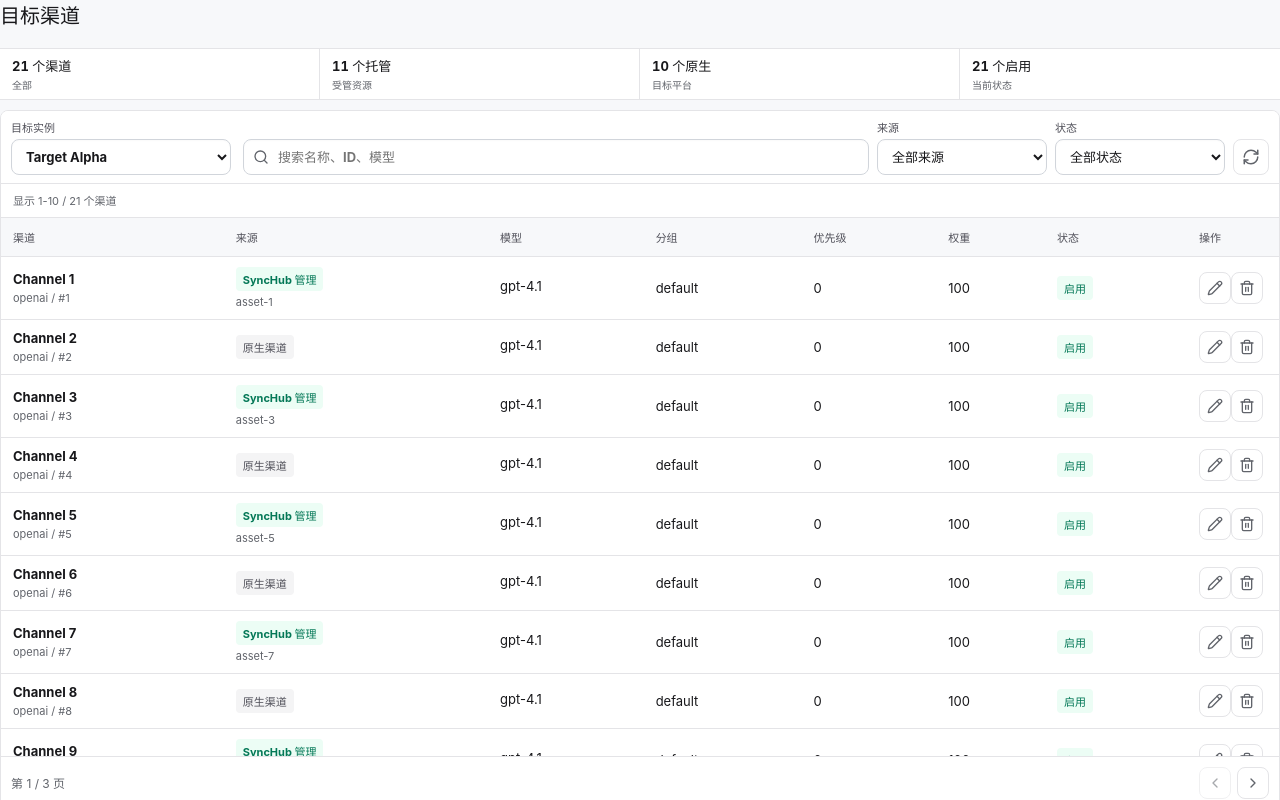
it: ChannelsPage native channel mutation guard › keeps managed channel edit and delete actions on the normal confirmation path
Click the button named "编辑渠道 Channel 1" at coordinates (1215, 288), box left=1199, top=272, right=1231, bottom=304
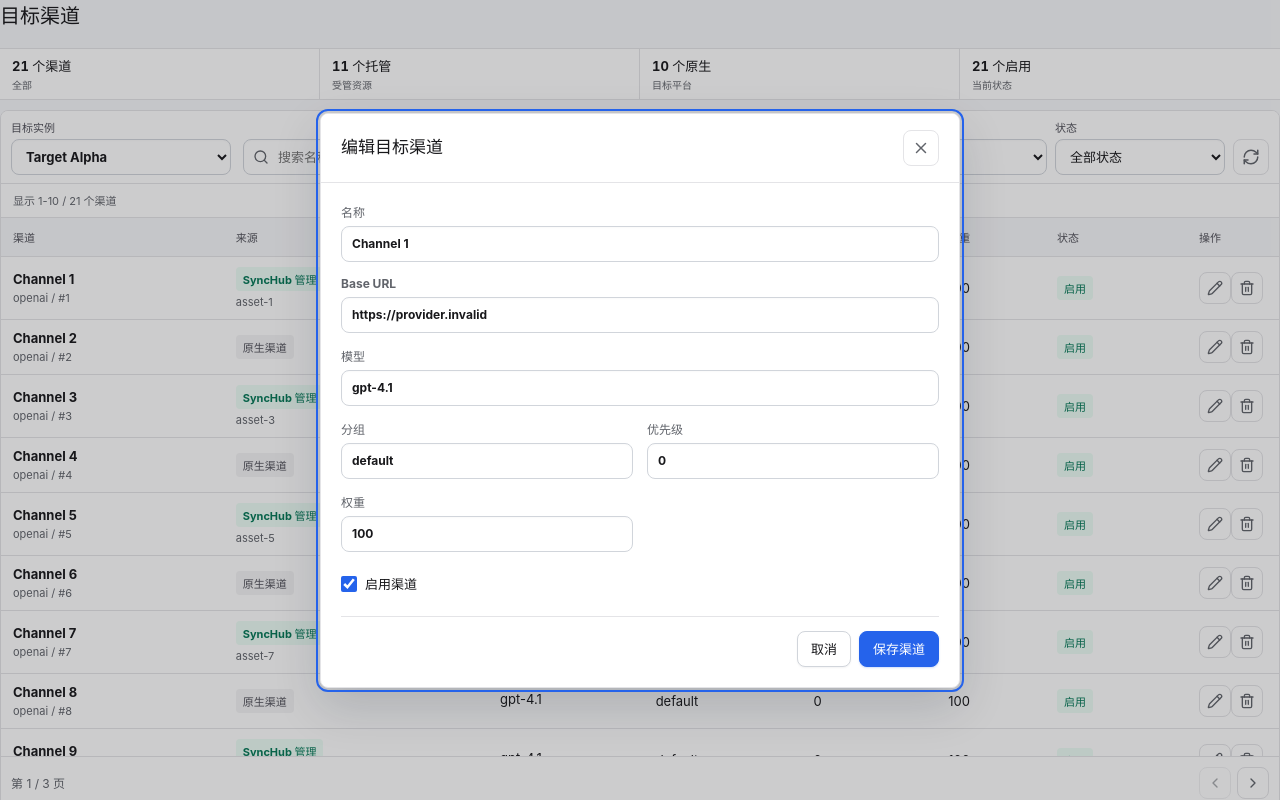
Check: the button "保存渠道" is enabled, box left=859, top=630, right=939, bottom=666
Click the button "取消" at coordinates (824, 648), box left=797, top=630, right=851, bottom=666
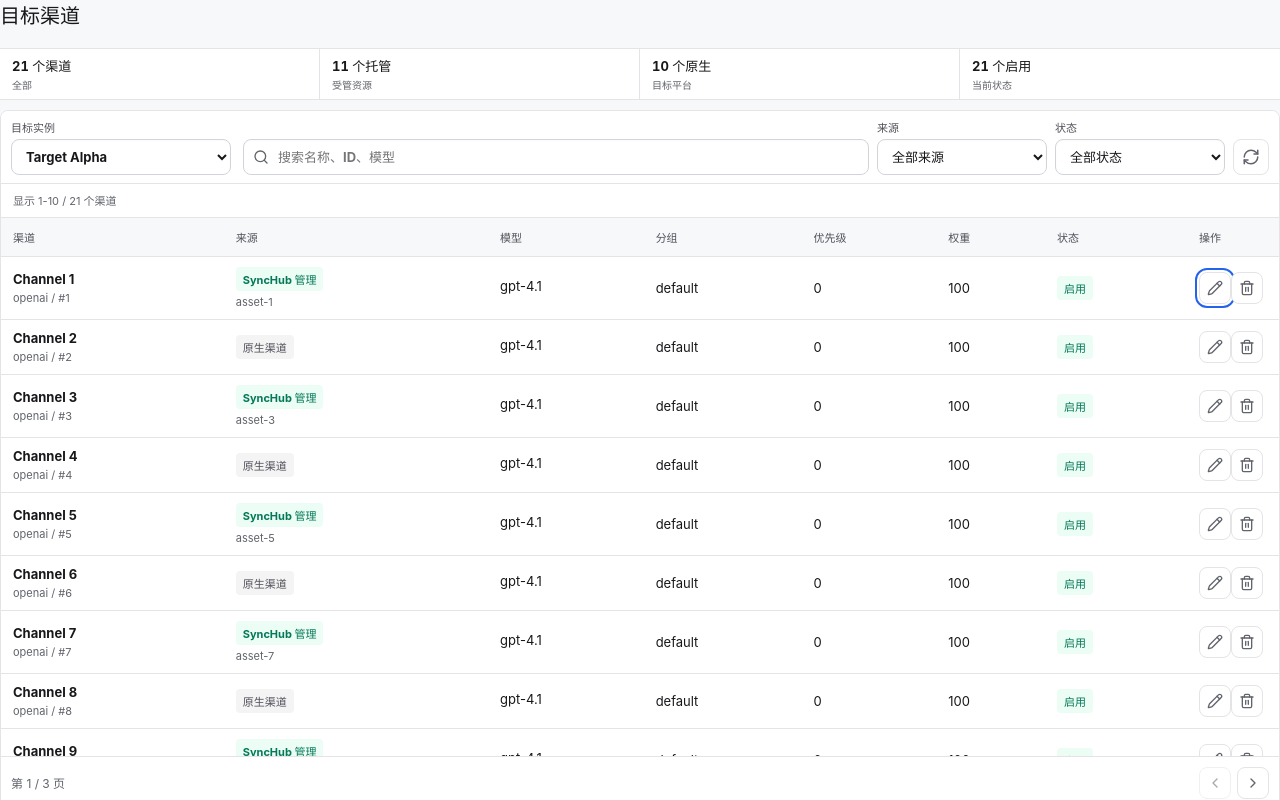
Click the button named "删除渠道 Channel 1" at coordinates (1247, 288), box left=1231, top=272, right=1263, bottom=304
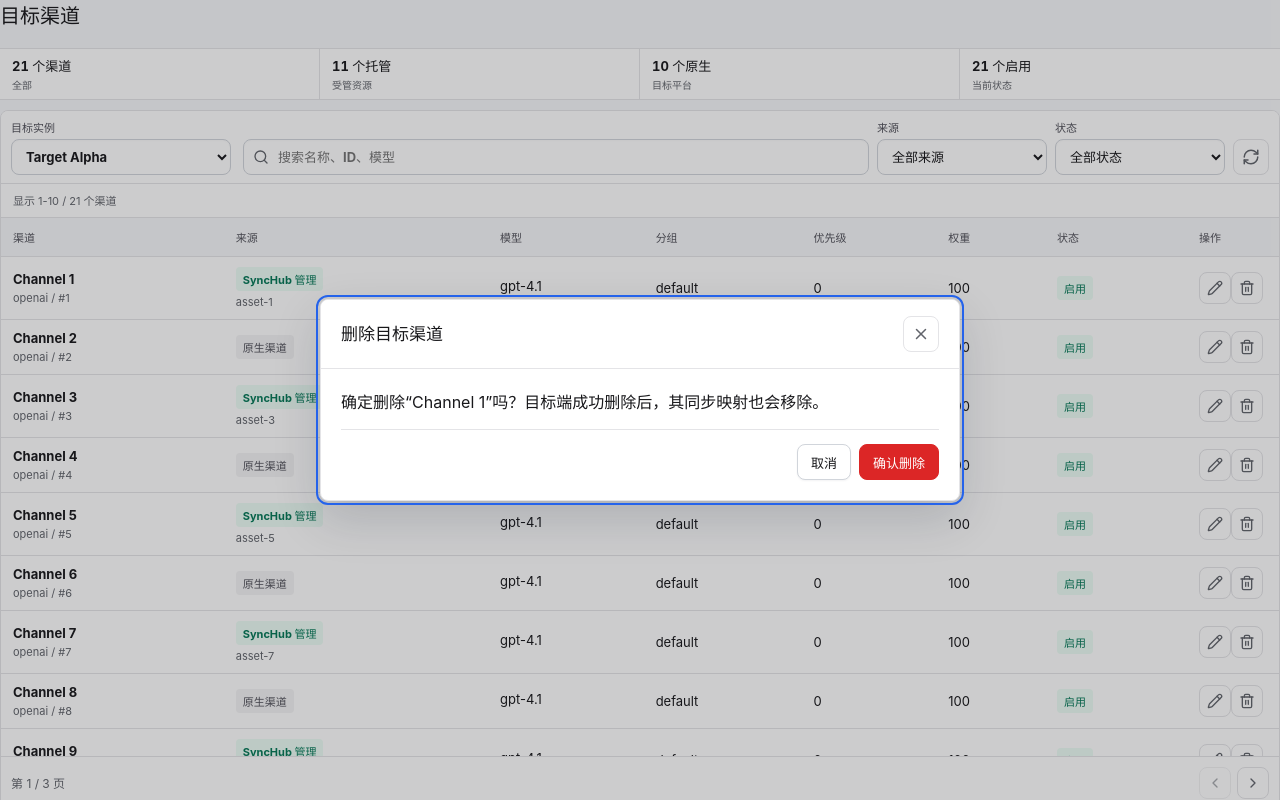
Check: the button "确认删除" is enabled, box left=859, top=444, right=939, bottom=480
